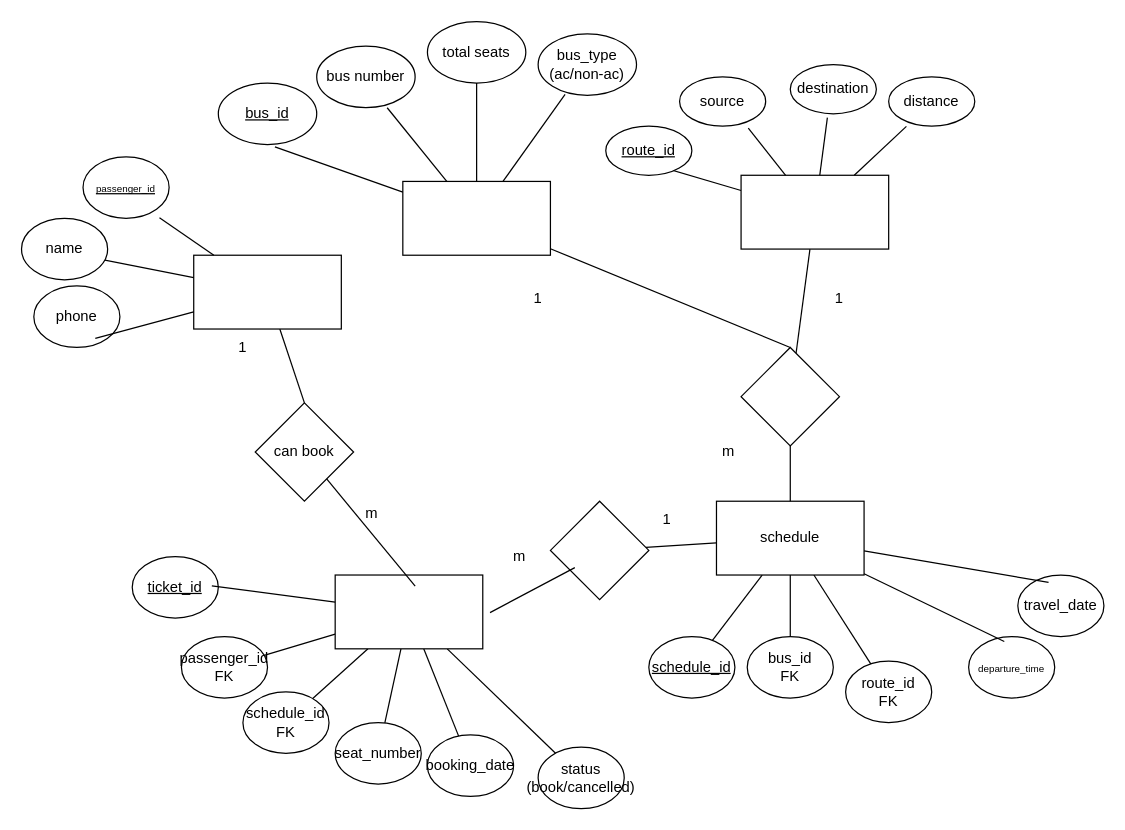
The diagram is 1125 pixels wide and 830 high, and some of its shapes have lost their labels. The centre of each missing label's shape, as x and y in pixels:
Bus: the point at 476,217
has: the point at 599,550
passenger: the point at 266,291
Route: the point at 814,211
runs on: the point at 789,396
ticket: the point at 408,611
